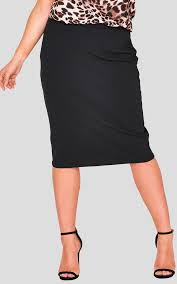F_tailored skirt: (36, 14, 165, 169)
